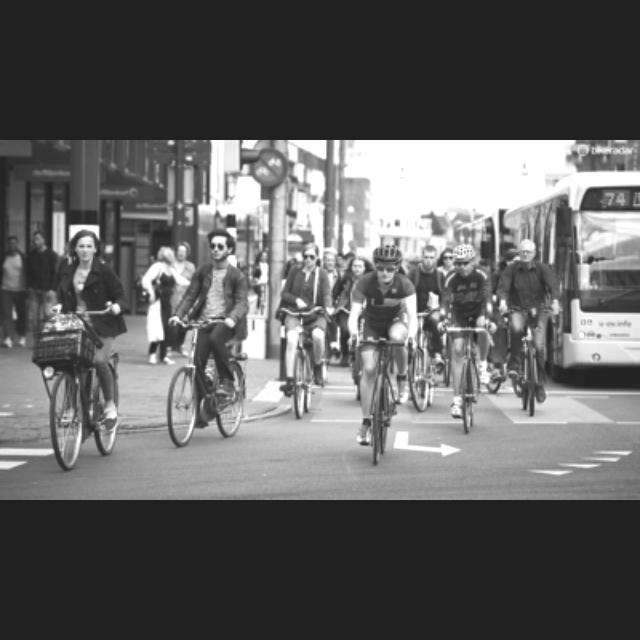With Helmet: (369, 240, 403, 284), (449, 242, 483, 278)
Without Helmet: (64, 227, 106, 265), (207, 225, 237, 265), (515, 234, 541, 264)
